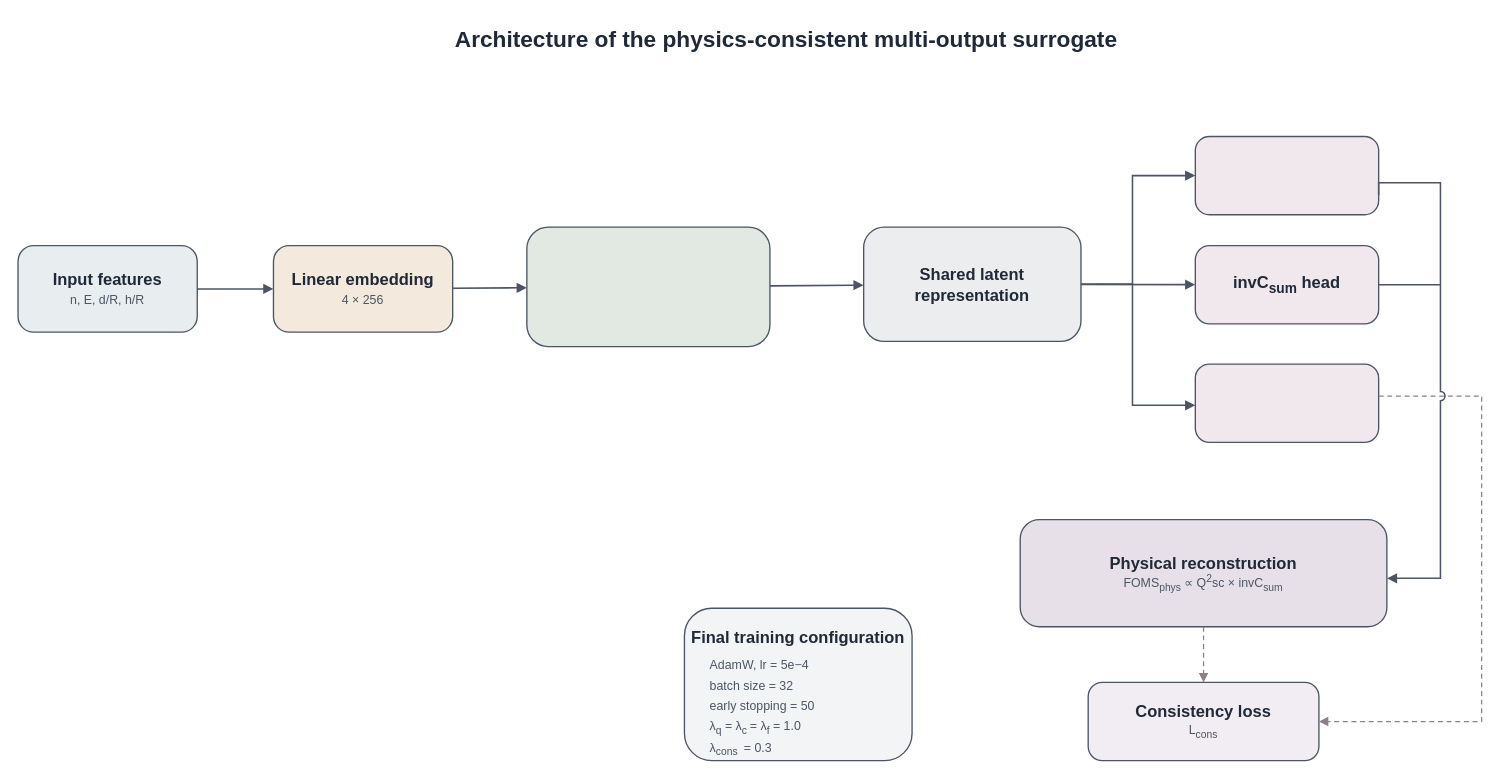
The diagram is 1509 pixels wide and 779 high, and some of its shapes have lost their labels. Each missing label, with the box of its shape:
FOMS direct head: (1194, 363, 1379, 443)
Q sc head: (1194, 135, 1379, 215)
Transformer encoder 2 layers, 4 heads dropout = 0.02: (526, 226, 770, 347)
